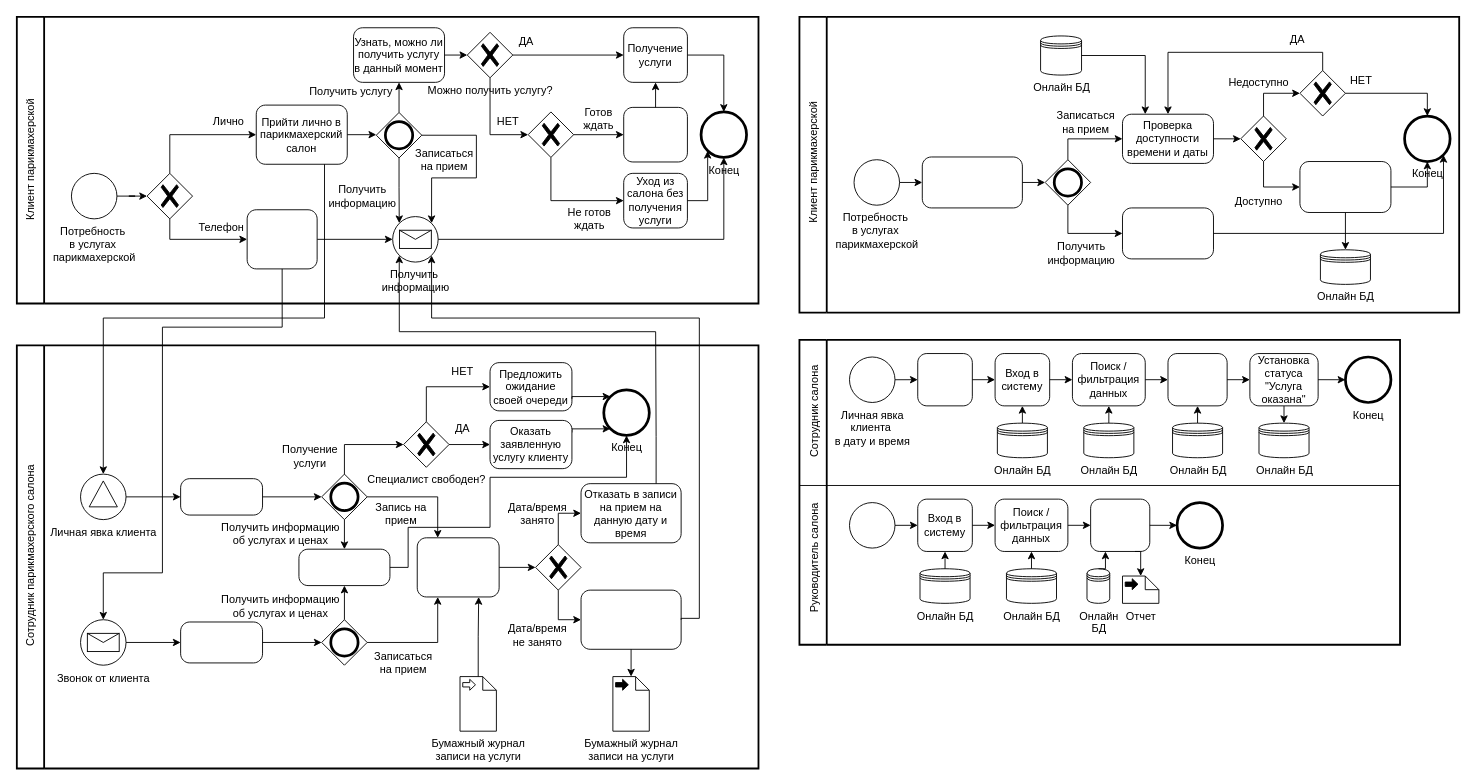
The diagram is 1475 pixels wide and 784 high, and some of its shapes have lost their labels. Here are the shapes that lost their labels. From the top down, the centre of each, then its label:
point 1322,93: Продолжить?
point 398,135: Цель
point 550,134: Готов ждать?
point 655,134: Ожидание своей очереди
point 169,195: Выбор способа связи с фирмой
point 971,182: Заход в веб-приложение "Парикмахерская"
point 1067,182: Выбор действия
point 1345,186: Записаться на дату и время и услугу
point 281,239: Позвонить в компанию
point 1167,233: Просмотр информации об услугах и ценах
point 944,379: Оказание услуги
point 1197,379: Заход в редактор заявки
point 221,496: Уточнить детали визита
point 872,525: Потребность в информации об онлайн записях
point 1120,524: Выгрузка отчетов
point 344,567: Рассказать об услугах и ценах
point 457,567: Сверить с клиентом расписание специалистов
point 630,619: Записать клиента на прием
point 221,642: Уточнить потребности клиента
